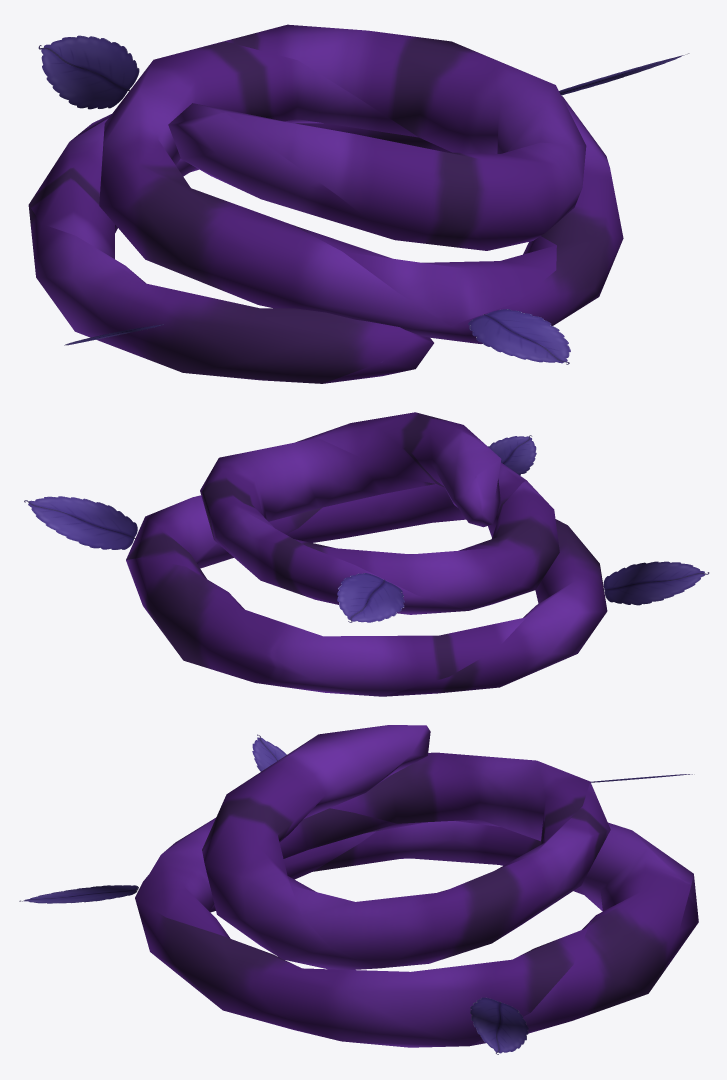
Rendered from TaoVunMun.fbx.
The picture shows the model from 3 angles, top to bottom: view 1: azimuth 30°, elevation 25°; view 2: azimuth 150°, elevation 25°; view 3: azimuth 270°, elevation 25°; orthographic projection. The views are drawn at different scales.
Visible parts, largest first — view 1: Plane; view 2: Plane; view 3: Plane.
Part boxes in pixels (x1,y1,x2,y2): Plane: (28,24,689,383); Plane: (24,412,709,696); Plane: (19,725,698,1054).
Bounding box in the file's own units: 113 × 28.08 × 98.79.
Materials: 2 (2 with a texture image).
